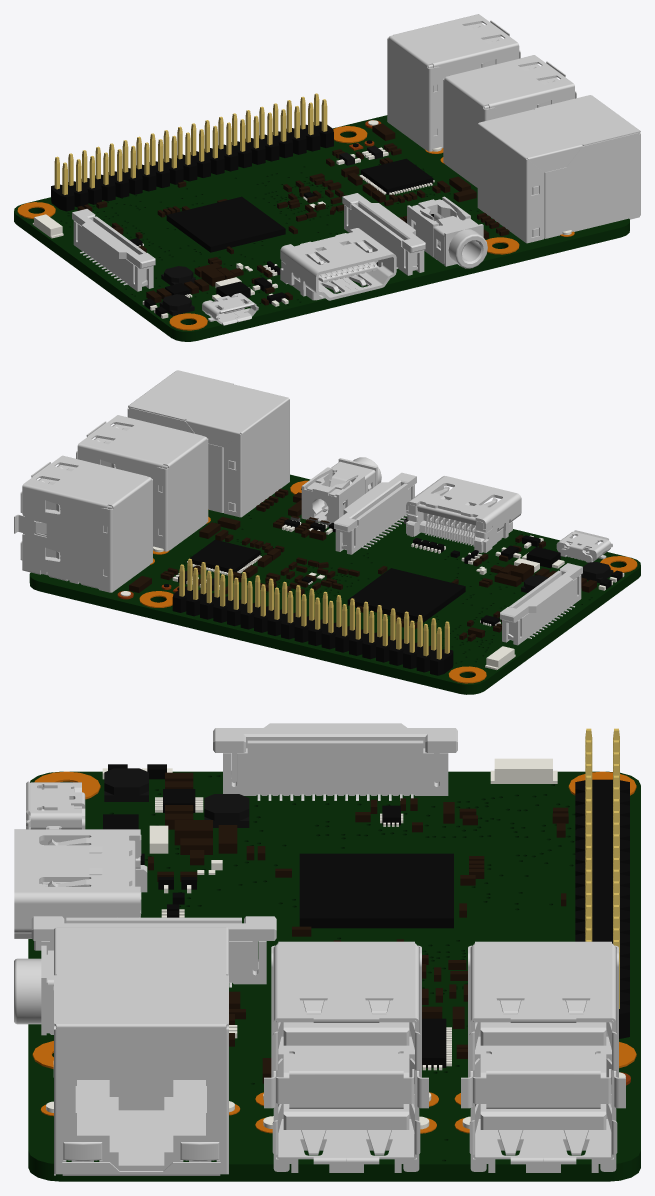
Rendered from Raspberry Pi 3.fbx.
The picture shows the model from 3 angles, top to bottom: view 1: azimuth 30°, elevation 25°; view 2: azimuth 150°, elevation 25°; view 3: azimuth 270°, elevation 25°; orthographic projection. The views are drawn at different scales.
Visible parts, largest first — view 1: FACE_IGES Model Data (×7), FACE_HANRUN_HR911105A, FACE_MOLEX_672983090 (×2), FACE_te_1-1734248-5 (×2), FACE_molex_0471510001, FACE_PJ-322, FACE_molex_0473460001; view 2: FACE_IGES Model Data (×7), FACE_MOLEX_672983090 (×2), FACE_HANRUN_HR911105A, FACE_te_1-1734248-5 (×2), FACE_molex_0471510001, FACE_PJ-322, FACE_molex_0473460001; view 3: FACE_IGES Model Data (×7), FACE_MOLEX_672983090 (×2), FACE_HANRUN_HR911105A, FACE_te_1-1734248-5 (×2), FACE_molex_0471510001, FACE_PJ-322, FACE_molex_0473460001.
Boxes of the visible parts, bbox=[...] form: FACE_IGES Model Data (×7): bbox=[14, 93, 629, 341]; FACE_HANRUN_HR911105A: bbox=[477, 95, 640, 243]; FACE_MOLEX_672983090 (×2): bbox=[387, 14, 576, 187]; FACE_te_1-1734248-5 (×2): bbox=[72, 193, 425, 291]; FACE_molex_0471510001: bbox=[280, 228, 396, 300]; FACE_PJ-322: bbox=[407, 196, 487, 268]; FACE_molex_0473460001: bbox=[202, 293, 258, 325]; FACE_IGES Model Data (×7): bbox=[29, 474, 640, 694]; FACE_MOLEX_672983090 (×2): bbox=[14, 415, 208, 592]; FACE_HANRUN_HR911105A: bbox=[127, 370, 289, 517]; FACE_te_1-1734248-5 (×2): bbox=[334, 472, 582, 645]; FACE_molex_0471510001: bbox=[406, 476, 521, 553]; FACE_PJ-322: bbox=[301, 457, 381, 523]; FACE_molex_0473460001: bbox=[556, 530, 612, 562]; FACE_IGES Model Data (×7): bbox=[28, 728, 640, 1181]; FACE_MOLEX_672983090 (×2): bbox=[264, 941, 625, 1172]; FACE_HANRUN_HR911105A: bbox=[53, 927, 228, 1175]; FACE_te_1-1734248-5 (×2): bbox=[31, 723, 457, 987]; FACE_molex_0471510001: bbox=[14, 829, 147, 950]; FACE_PJ-322: bbox=[14, 945, 53, 1035]; FACE_molex_0473460001: bbox=[26, 781, 85, 829].
Bounding box in the file's own units: 87.38 × 57.31 × 17.29.
